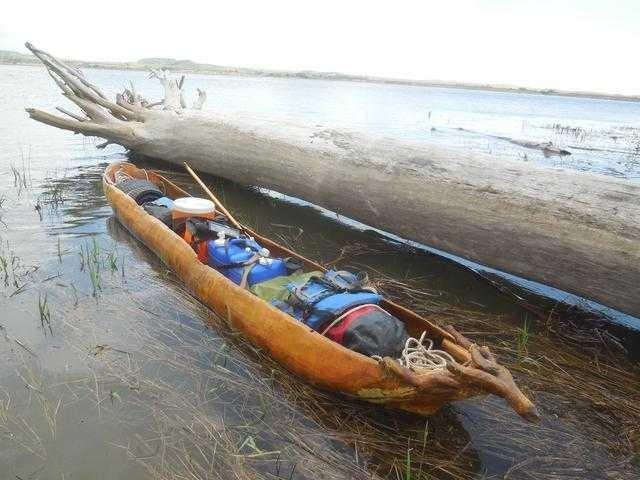kayak: (105, 159, 543, 422), (542, 143, 572, 157)
